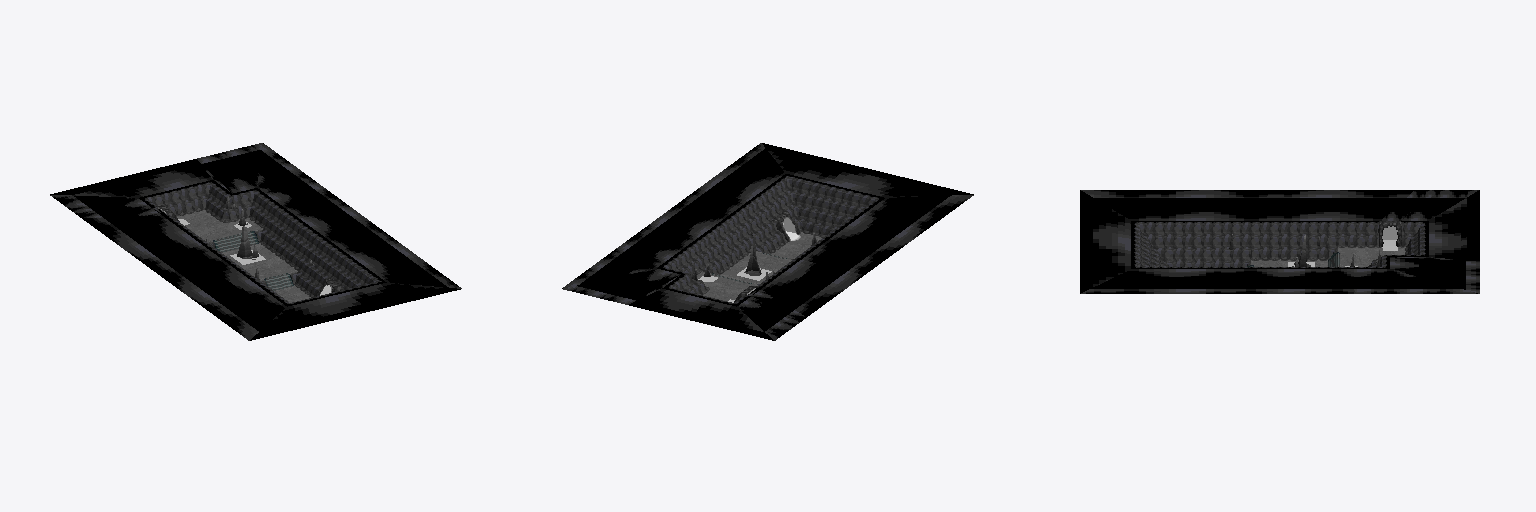
3 renders of one model, left to right at view 1: azimuth 30°, elevation 25°; view 2: azimuth 150°, elevation 25°; view 3: azimuth 270°, elevation 25°, orthographic.
Visible parts, largest first — view 1: polygon12, polygon0, polygon5, polygon11, polygon13, polygon6, polygon10; view 2: polygon12, polygon0, polygon11, polygon5, polygon13; view 3: polygon12, polygon0, polygon11, polygon13, polygon5.
Boxes of the visible parts, <box> form: polygon12: <box>50,143,461,340</box>; polygon0: <box>150,186,373,290</box>; polygon5: <box>177,210,310,302</box>; polygon11: <box>146,183,379,303</box>; polygon13: <box>169,200,318,297</box>; polygon6: <box>213,231,293,290</box>; polygon10: <box>206,196,313,280</box>; polygon12: <box>562,143,973,340</box>; polygon0: <box>669,180,873,293</box>; polygon11: <box>663,177,877,303</box>; polygon5: <box>697,232,821,301</box>; polygon13: <box>685,222,832,294</box>; polygon12: <box>1080,190,1479,293</box>; polygon0: <box>1140,225,1419,266</box>; polygon11: <box>1136,223,1423,266</box>; polygon13: <box>1168,238,1410,266</box>; polygon5: <box>1251,247,1405,266</box>.
Size of the model in its own units: 6.42 by 1.22 by 10.42.
Materials: 16 (14 with a texture image).